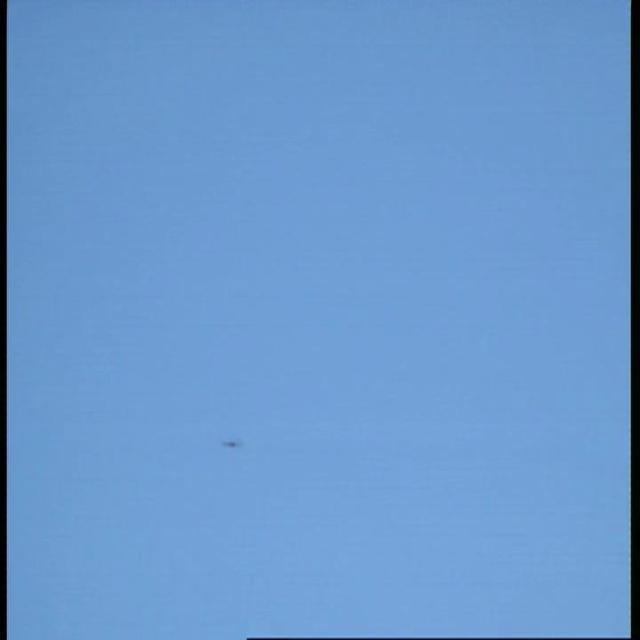drone: (213, 426, 247, 456)
